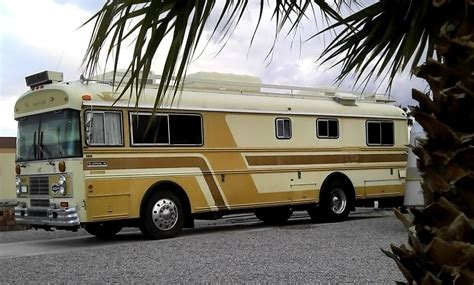bus: (12, 70, 407, 237)
